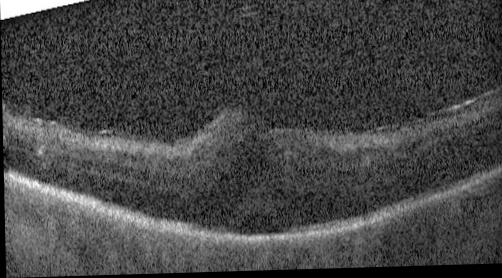neuroepithelium_detachment: (238, 216, 282, 235)
